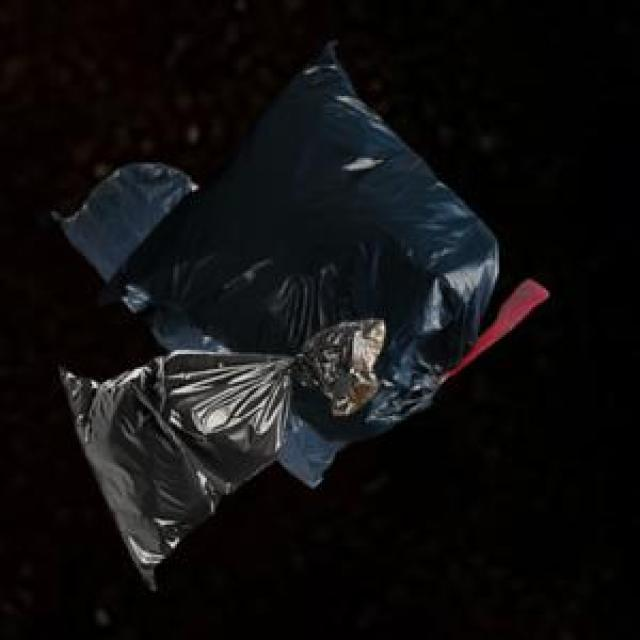Trashbag: (53, 341, 322, 592)
